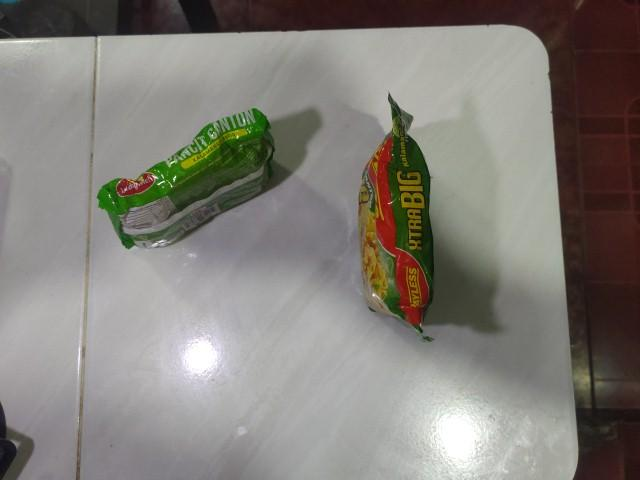Noodles: (96, 105, 276, 251), (356, 89, 439, 344)
